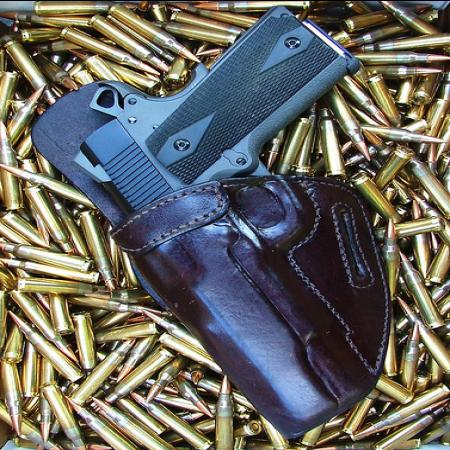Pistol: (68, 6, 386, 434)
